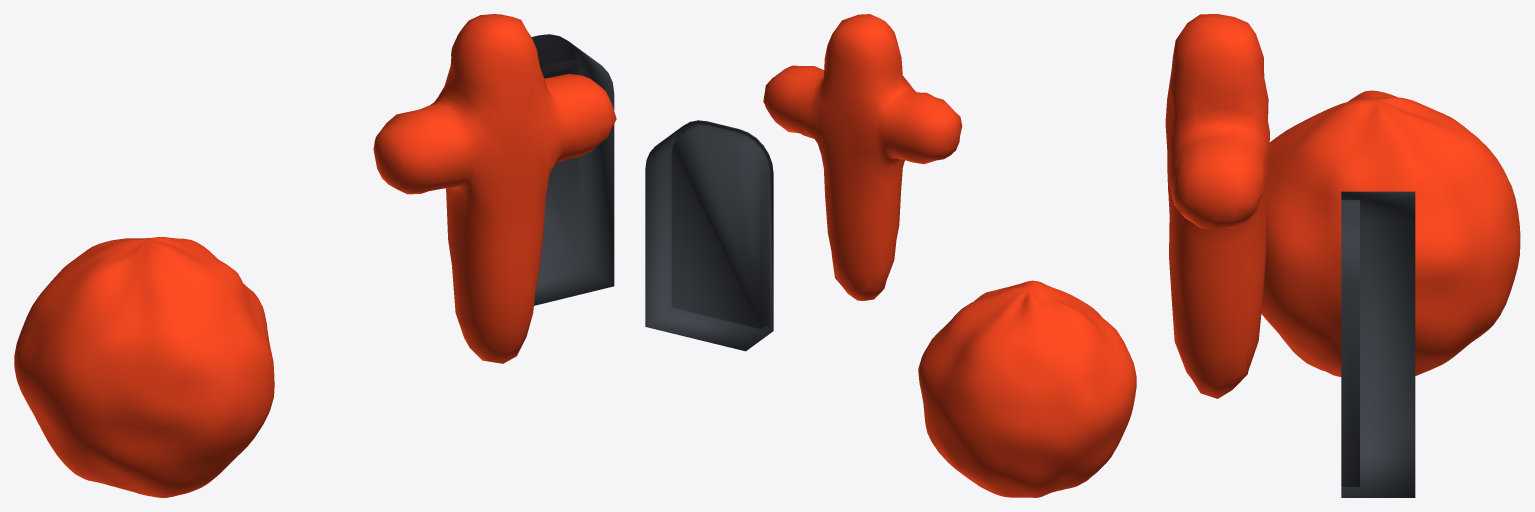
The model's file is gamejam2.fbx.
3 renders of one model, left to right at view 1: azimuth 30°, elevation 25°; view 2: azimuth 150°, elevation 25°; view 3: azimuth 270°, elevation 25°, orthographic. The views are drawn at different scales.
Parts seen in each view (by area): view 1: Sphere, Cube, Cube.001; view 2: Sphere, Cube, Cube.001; view 3: Sphere, Cube, Cube.001.
Boxes of the visible parts, bbox=[...] form: Sphere: bbox=[14, 237, 274, 497]; Cube: bbox=[373, 14, 616, 363]; Cube.001: bbox=[531, 34, 614, 305]; Sphere: bbox=[918, 280, 1136, 497]; Cube: bbox=[763, 14, 962, 300]; Cube.001: bbox=[645, 120, 773, 351]; Sphere: bbox=[1261, 90, 1520, 376]; Cube: bbox=[1165, 14, 1269, 398]; Cube.001: bbox=[1341, 191, 1415, 497].
Bounding box in the file's own units: 499 × 383 × 249.
